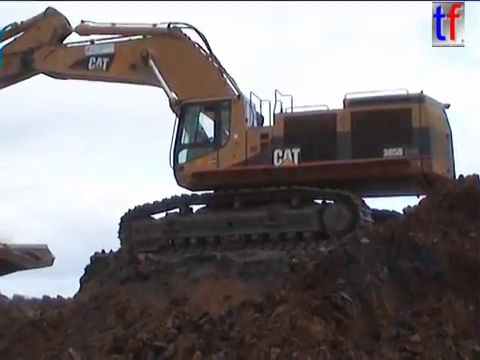excavator: (1, 3, 462, 255)
truck: (1, 240, 58, 280)
